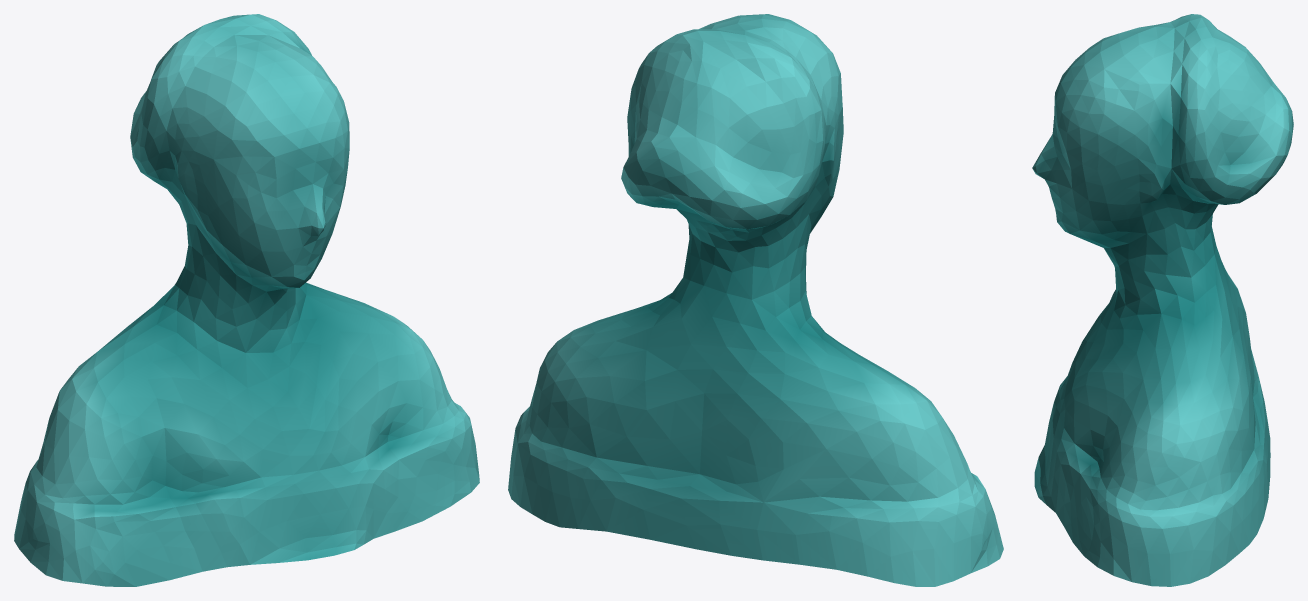
The model's file is laurana2KC.obj.
3 renders of one model, left to right at view 1: azimuth 30°, elevation 25°; view 2: azimuth 150°, elevation 25°; view 3: azimuth 270°, elevation 25°, orthographic. The views are drawn at different scales.
Bounding box in the file's own units: 46.18 × 48.56 × 25.02.
